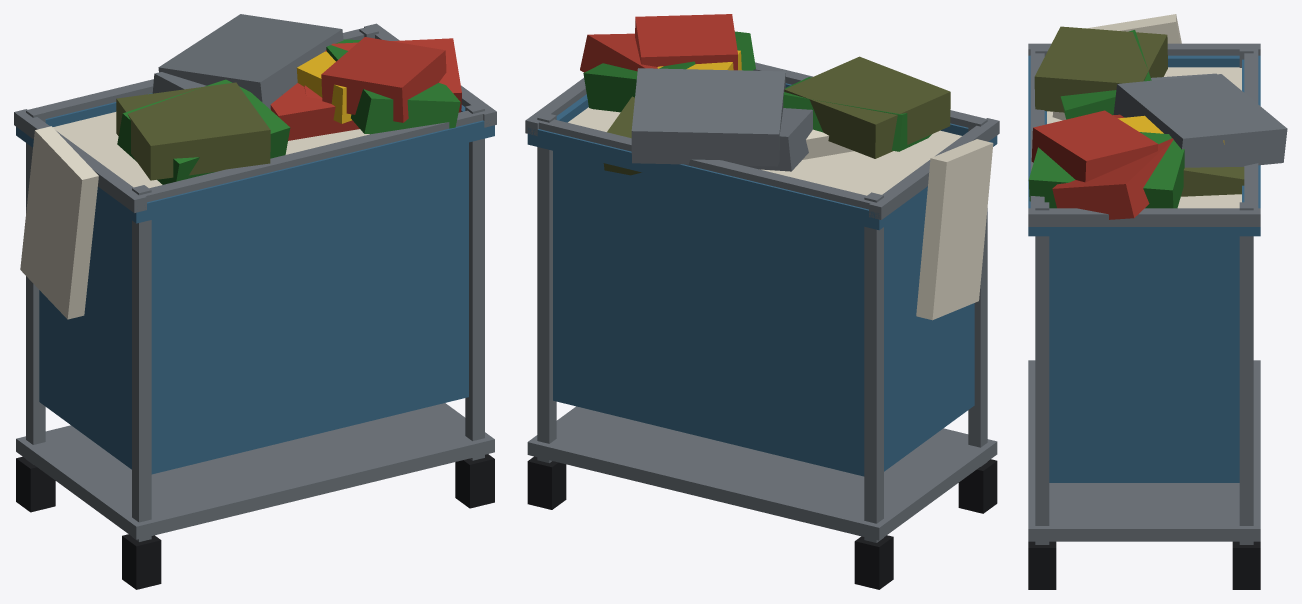
Rendered from laundry_cart.glb.
The picture shows the model from 3 angles, left to right: view 1: azimuth 30°, elevation 25°; view 2: azimuth 150°, elevation 25°; view 3: azimuth 270°, elevation 25°; orthographic projection. The views are drawn at different scales.
Visible parts, largest first — view 1: laundry_cart; view 2: laundry_cart; view 3: laundry_cart.
Part boxes in pixels (x1,y1,x2,y2): laundry_cart: (14,14,496,589); laundry_cart: (525,14,999,589); laundry_cart: (1028,14,1287,589).
Bounding box in the file's own units: 0.9493 × 0.9975 × 0.558.
8 materials, 8 textured.
